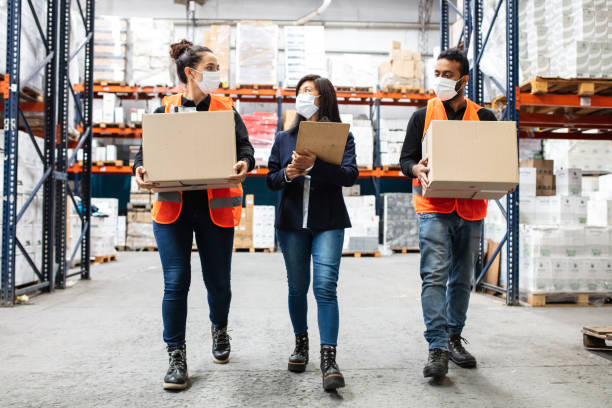with mask: (166, 42, 228, 98), (290, 74, 336, 124), (432, 51, 469, 104)
